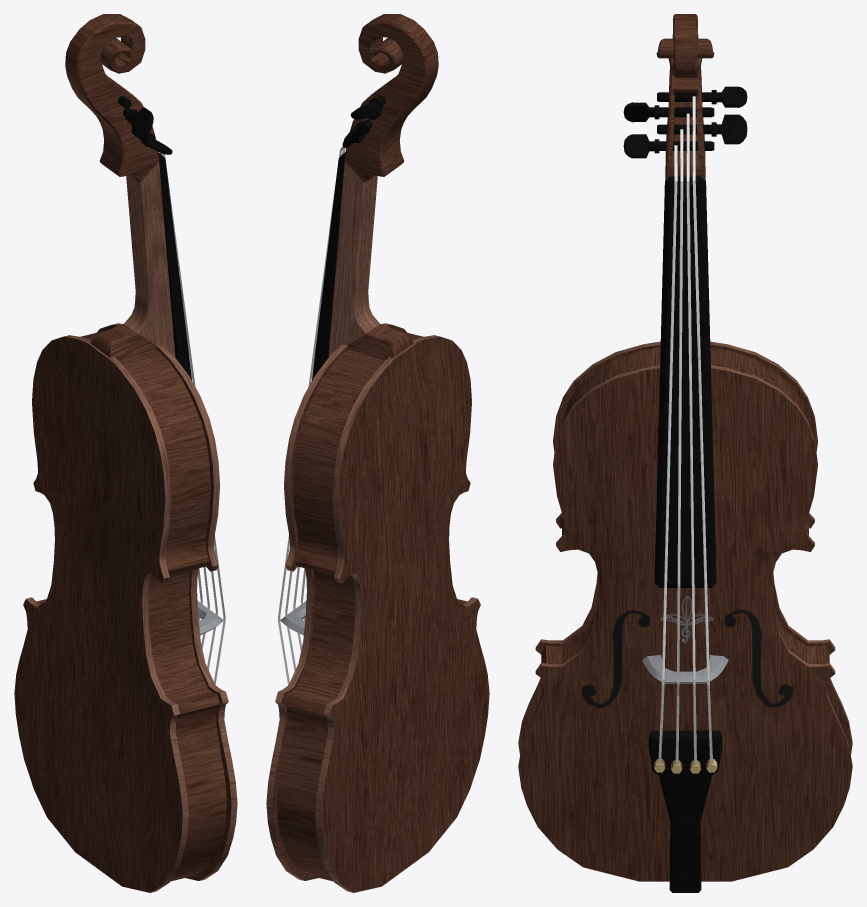
The model's file is violin.fbx.
3 renders of one model, left to right at view 1: azimuth 30°, elevation 25°; view 2: azimuth 150°, elevation 25°; view 3: azimuth 270°, elevation 25°, orthographic.
Parts seen in each view (by area): view 1: violine_lp; view 2: violine_lp; view 3: violine_lp.
Part boxes in pixels (box(x1,y1,x2,y2)): violine_lp: box(14, 14, 237, 892); violine_lp: box(266, 14, 489, 892); violine_lp: box(518, 14, 852, 892).
Size of the model in its own units: 1765 by 10254 by 3606.
1 material, 1 textured.
